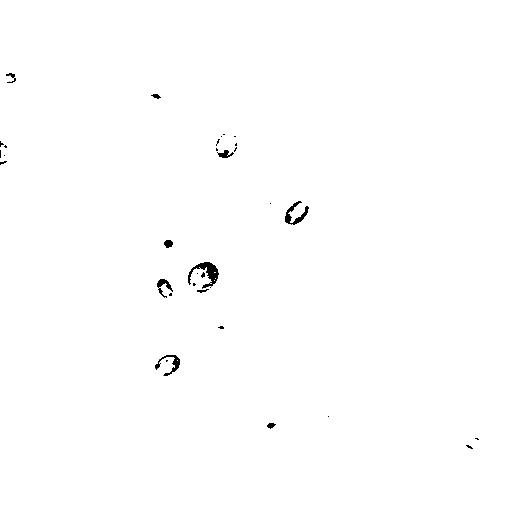micro-algae: (247, 406, 293, 443), (185, 259, 221, 295), (148, 226, 179, 256), (212, 130, 239, 161), (269, 187, 295, 218), (283, 199, 308, 227), (155, 353, 181, 377), (461, 432, 485, 453), (154, 277, 174, 298), (1, 141, 13, 163), (1, 71, 19, 85), (188, 140, 199, 155)
